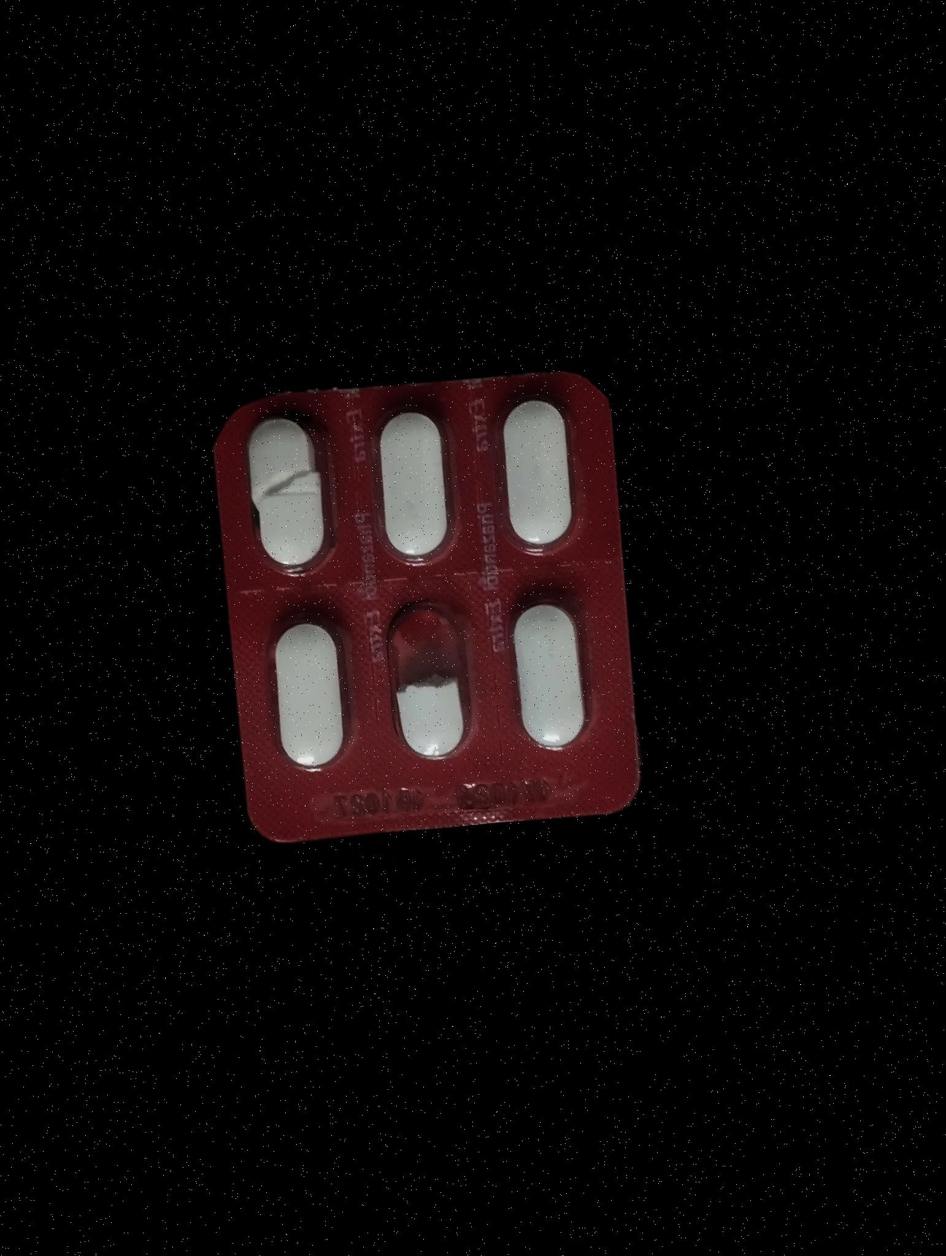Full: (359, 396, 468, 574), (502, 579, 605, 761), (258, 613, 355, 789), (491, 388, 594, 552)
